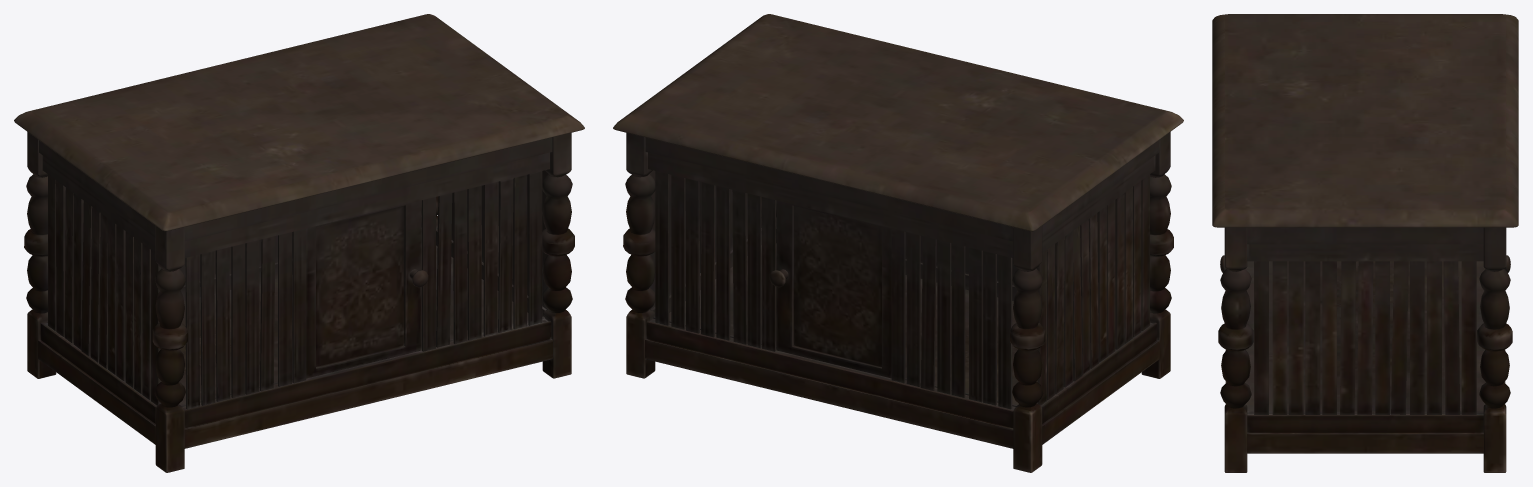
Rendered from 1057fdd0-a688-4ba1-b624-94f8466ce6c8.glb.
The picture shows the model from 3 angles, left to right: view 1: azimuth 30°, elevation 25°; view 2: azimuth 150°, elevation 25°; view 3: azimuth 270°, elevation 25°; orthographic projection.
Visible parts, largest first — view 1: gallinera_table; view 2: gallinera_table; view 3: gallinera_table.
Part boxes in pixels (left/top/right/bottom): gallinera_table: left=14, top=14, right=584, bottom=472; gallinera_table: left=613, top=14, right=1183, bottom=472; gallinera_table: left=1212, top=14, right=1518, bottom=472.
Size of the model in its own units: 0.8301 by 0.4878 by 0.5183.
1 material, 1 textured.
